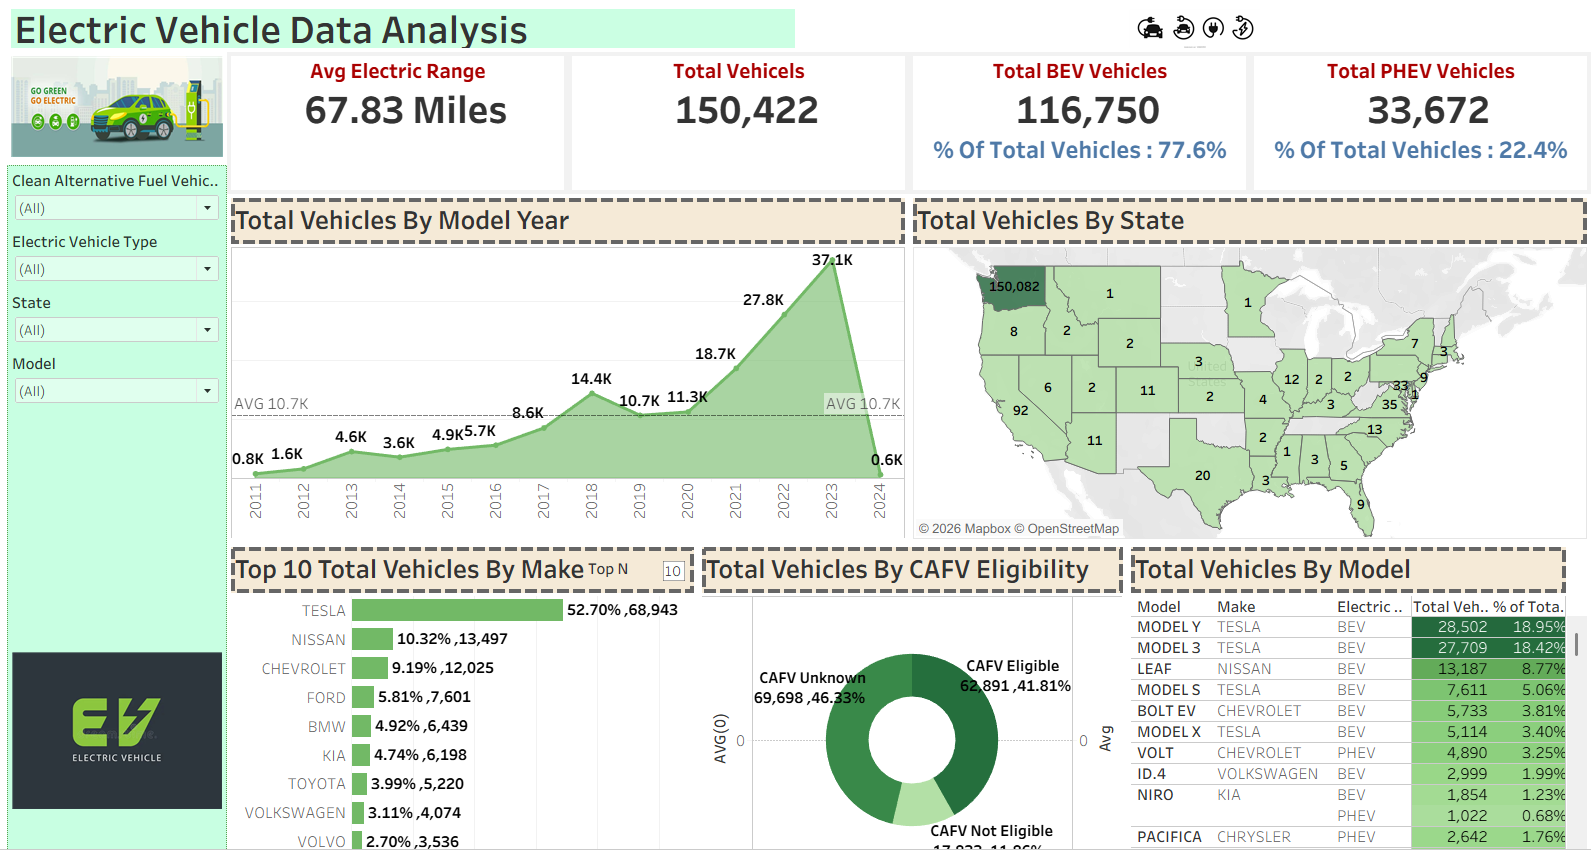

The dashboard page shown, as its layout file describes it:
{"tool":"tableau","page":{"name":"Electric Vehicle Dashboard","canvas":[1600,900],"ordinal":0},"visuals":[{"type":"title","box":[8,8,792,47]},{"type":"image","param":"C:/Users/Lenovo/Downloads/electric-car-plug-icon-symbol-260nw-2458353933.jpg","box":[800,8,792,47]},{"type":"image","param":"C:/Users/Lenovo/Downloads/images (2).jpg","box":[8,55,220,113]},{"type":"worksheet","title":"Avg Electric Range","mark":"Automatic","box":[228,55,341,142]},{"type":"worksheet","title":"Total Vehicles","mark":"Automatic","box":[569,55,341,142]},{"type":"worksheet","title":"Total BEV Vehicles","mark":"Automatic","box":[910,55,341,142]},{"type":"worksheet","title":"Total PHEV Vehicles","mark":"Automatic","box":[1251,55,341,142]},{"type":"filter","title":"Total Vehicles By Model Year","param":"[federated.0ndc5s71we9pwc16fgzdp0am2a9w].[none:Clean Alternative Fuel Vehicle (C","box":[9,169,218,61]},{"type":"worksheet","title":"Total Vehicles By Model Year","mark":"Area","rows":["Calculation_2459366051803136","Calculation_2459366051803136"],"cols":["Model Year"],"box":[228,197,682,349]},{"type":"worksheet","title":"Total Vehicles By State","mark":"Multipolygon","box":[910,197,682,349]},{"type":"filter","title":"Total Vehicles By Model Year","param":"[federated.0ndc5s71we9pwc16fgzdp0am2a9w].[none:Electric Vehicle Type:nk]","box":[9,230,218,61]},{"type":"filter","title":"Total Vehicles By Model Year","param":"[federated.0ndc5s71we9pwc16fgzdp0am2a9w].[none:State:nk]","box":[9,291,218,61]},{"type":"filter","title":"Total Vehicles By Model Year","param":"[federated.0ndc5s71we9pwc16fgzdp0am2a9w].[none:Model:nk]","box":[9,352,218,224]},{"type":"worksheet","title":"Top 10 Vehicles By Make","mark":"Automatic","rows":["Make"],"cols":["Calculation_2459366051803136"],"box":[228,546,471,346]},{"type":"worksheet","title":"Total Vehicles By CAFV Eligibility ","mark":"Pie","rows":["Calculation_2459366072934408","Calculation_2459366073524233"],"box":[699,546,429,346]},{"type":"worksheet","title":"Total Vehicles By Model","mark":"Square","rows":["Model","Make","Electric Vehicle Type"],"box":[1128,546,464,346]},{"type":"parameter","param":"[Parameters].[Parameter 1]","box":[589,561,100,23]},{"type":"image","param":"C:/Users/Lenovo/Downloads/electric-vehicle-logo-design-template-electric-vehicle","box":[9,576,218,315]}]}

Visuals, with their boxes in screenshot pixels (x1, y1, x2, y2):
title: [x1=218, y1=65, x2=929, y2=107]
image: [x1=929, y1=65, x2=1590, y2=107]
image: [x1=218, y1=107, x2=416, y2=209]
"Avg Electric Range" worksheet: [x1=416, y1=107, x2=722, y2=235]
"Total Vehicles" worksheet: [x1=722, y1=107, x2=1028, y2=235]
"Total BEV Vehicles" worksheet: [x1=1028, y1=107, x2=1334, y2=235]
"Total PHEV Vehicles" worksheet: [x1=1334, y1=107, x2=1590, y2=235]
"Total Vehicles By Model Year" filter: [x1=219, y1=210, x2=415, y2=264]
"Total Vehicles By Model Year" worksheet (Area marks): [x1=416, y1=235, x2=1028, y2=548]
"Total Vehicles By State" worksheet (Multipolygon marks): [x1=1028, y1=235, x2=1590, y2=548]
"Total Vehicles By Model Year" filter: [x1=219, y1=264, x2=415, y2=319]
"Total Vehicles By Model Year" filter: [x1=219, y1=319, x2=415, y2=374]
"Total Vehicles By Model Year" filter: [x1=219, y1=374, x2=415, y2=575]
"Top 10 Vehicles By Make" worksheet: [x1=416, y1=548, x2=839, y2=849]
"Total Vehicles By CAFV Eligibility " worksheet (Pie marks): [x1=839, y1=548, x2=1224, y2=849]
"Total Vehicles By Model" worksheet (Square marks): [x1=1224, y1=548, x2=1590, y2=849]
parameter: [x1=740, y1=562, x2=830, y2=582]
image: [x1=219, y1=575, x2=415, y2=849]
